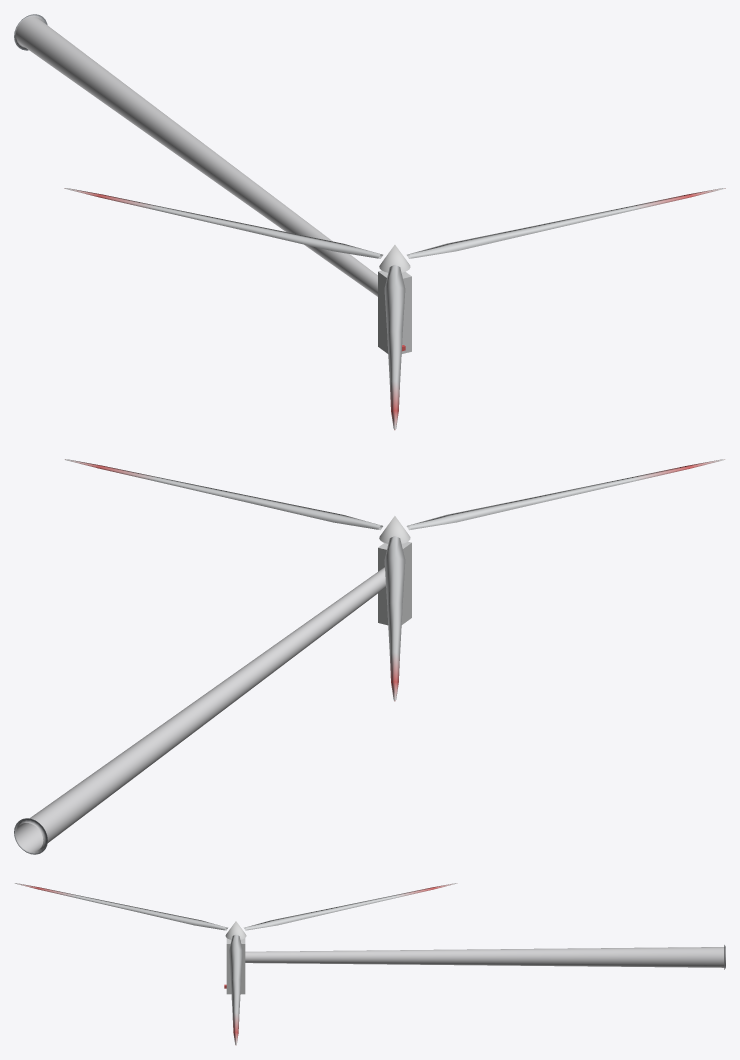
Rendered from wind_turbine.glb.
3 renders of one model, top to bottom at view 1: azimuth 30°, elevation 25°; view 2: azimuth 150°, elevation 25°; view 3: azimuth 270°, elevation 25°, orthographic. The views are drawn at different scales.
Visible parts, largest first — view 1: WindTurbine_120m; view 2: WindTurbine_120m; view 3: WindTurbine_120m.
Part boxes in pixels (x1=…): WindTurbine_120m: x1=14, y1=14, x2=725, y2=430; WindTurbine_120m: x1=14, y1=459, x2=724, y2=854; WindTurbine_120m: x1=15, y1=883, x2=725, y2=1045.
Bounding box in the file's own units: 87.75 × 17.7 × 162.
